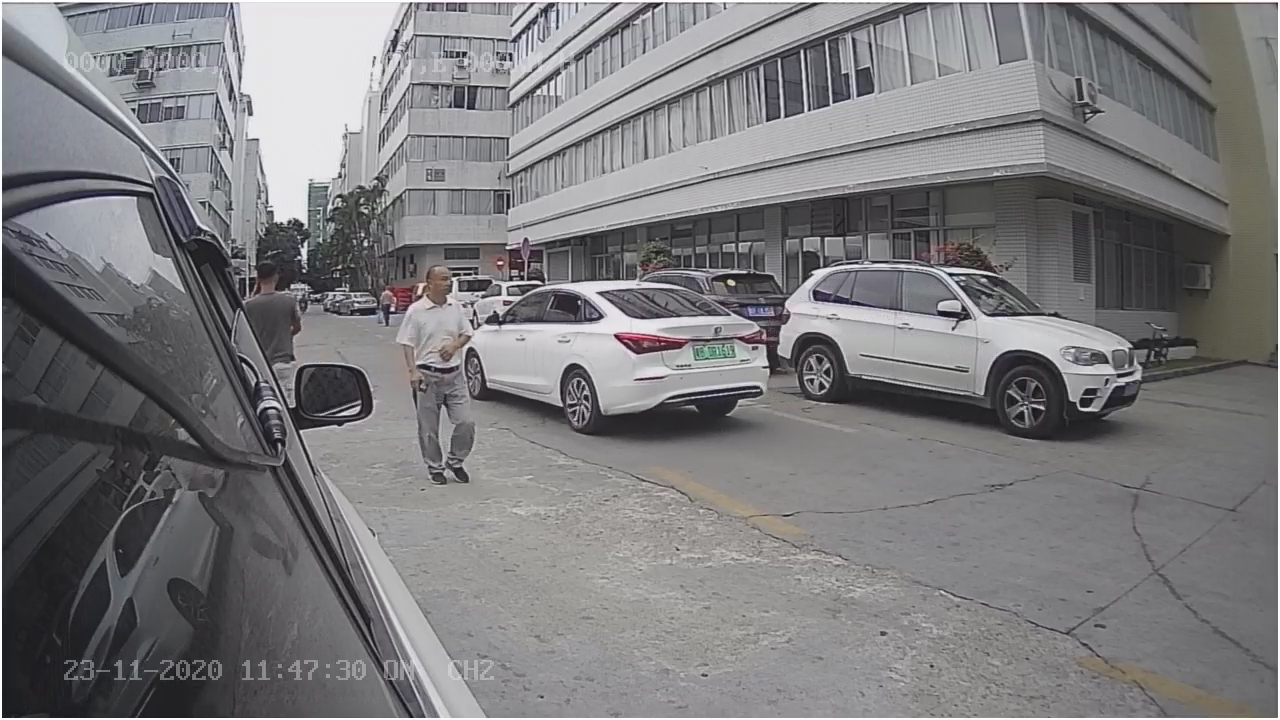person: (396, 254, 478, 483)
